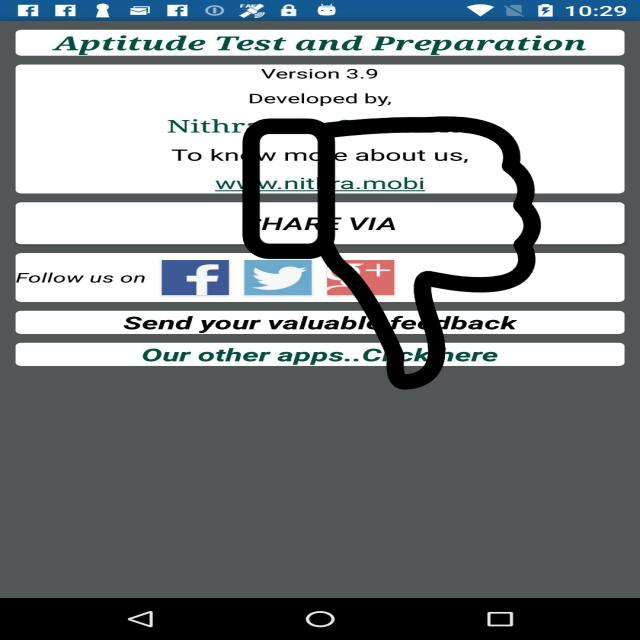obstruction: (238, 116, 545, 390)
